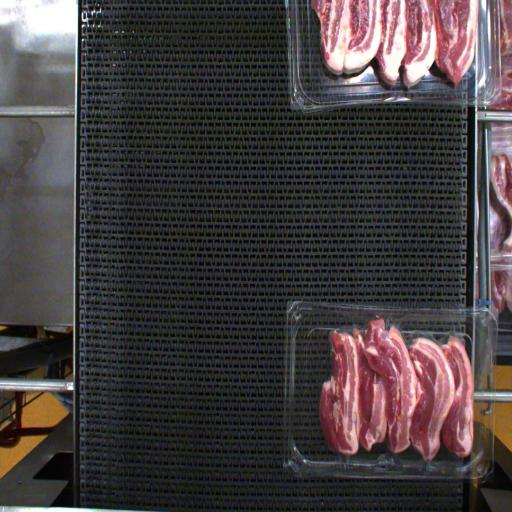packaging-error: (370, 309, 412, 329)
unsealed: (329, 311, 474, 362)
